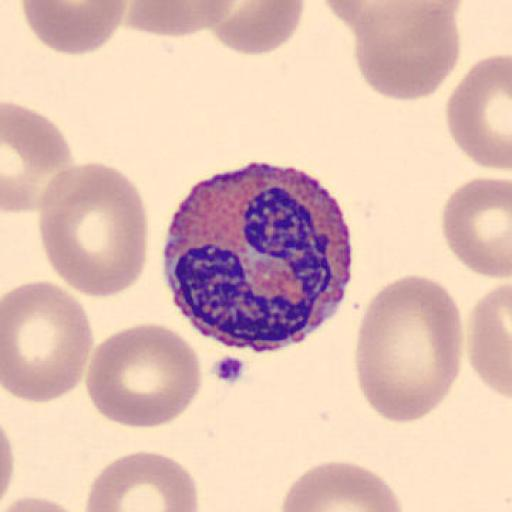RBC: (355, 274, 464, 423), (37, 160, 149, 301), (84, 322, 202, 430), (345, 1, 463, 102), (2, 278, 95, 405), (2, 100, 75, 212), (445, 52, 512, 171), (441, 175, 512, 279), (83, 450, 200, 512), (279, 460, 405, 512), (20, 0, 128, 56), (319, 0, 469, 37), (207, 0, 305, 56), (468, 279, 512, 401), (124, 0, 236, 39), (364, 0, 468, 23), (0, 493, 88, 512), (0, 417, 17, 512)
WBC: (163, 157, 353, 354)
